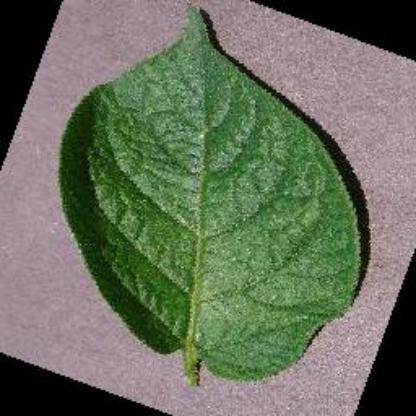Healthy-plant: (58, 4, 366, 388)
